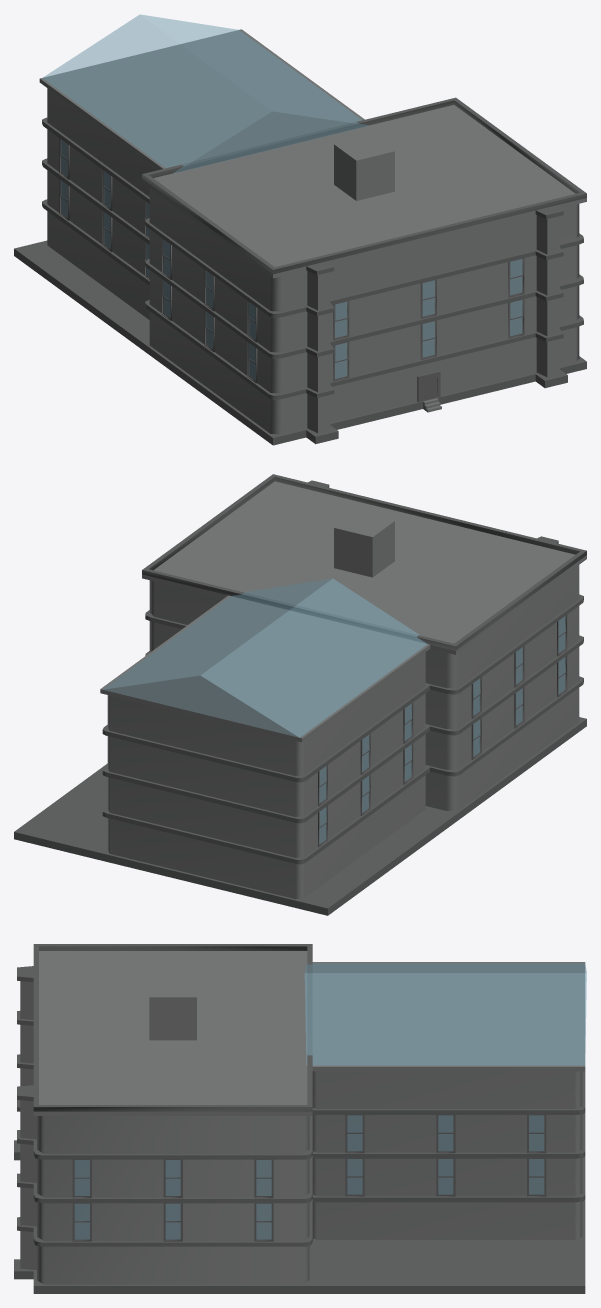
Rendered from Apartment Buildings(4).glb.
3 views of the same model, one above another, from view 1: azimuth 30°, elevation 25°; view 2: azimuth 150°, elevation 25°; view 3: azimuth 270°, elevation 25° (orthographic). The views are drawn at different scales.
Visible parts, largest first — view 1: Root; view 2: Root; view 3: Root.
Part boxes in pixels (box(x1,y1,x2,y2)): Root: box(14, 14, 586, 445); Root: box(14, 474, 586, 915); Root: box(14, 944, 586, 1293).
Size of the model in its own units: 22.29 by 14.35 by 33.1.
